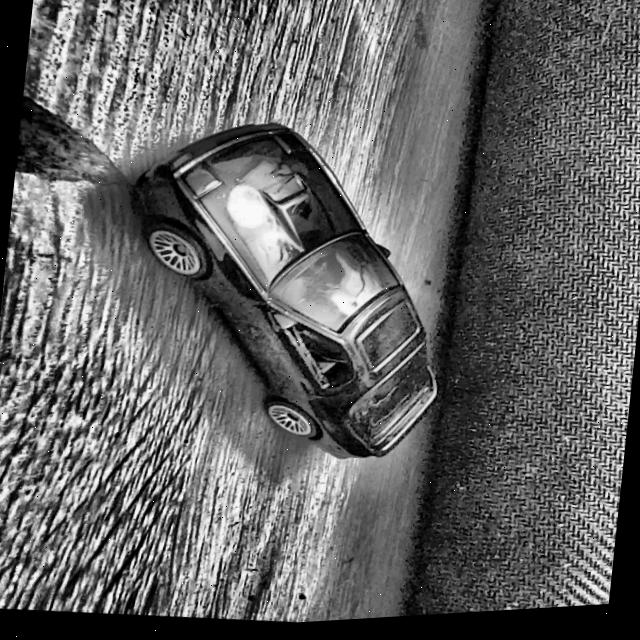car: (105, 103, 464, 484)
